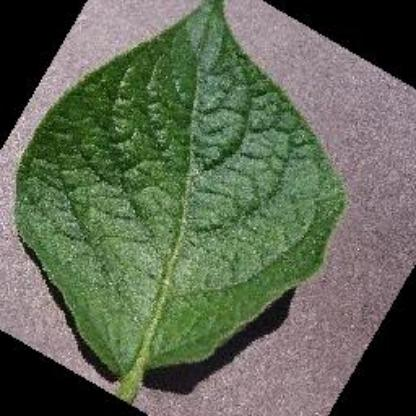Healthy-plant: (15, 3, 340, 402)
